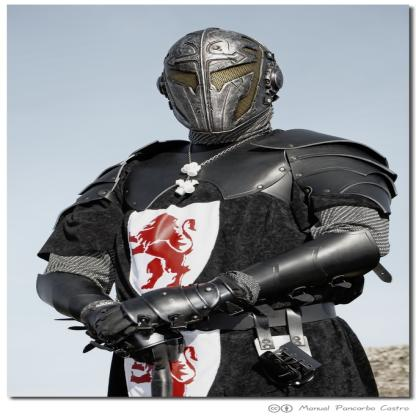Helmet: (160, 30, 288, 139)
